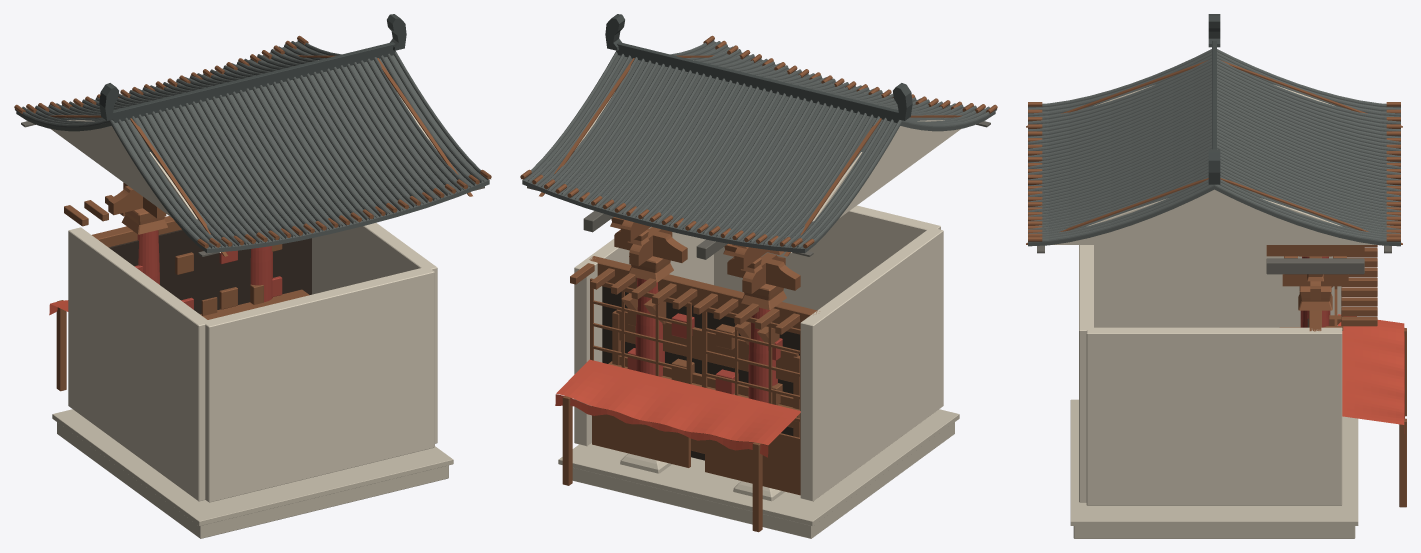
The model's file is shop-dadian.glb.
3 renders of one model, left to right at view 1: azimuth 30°, elevation 25°; view 2: azimuth 150°, elevation 25°; view 3: azimuth 270°, elevation 25°, orthographic. The views are drawn at different scales.
Parts seen in each view (by area): view 1: shop_dadian; view 2: shop_dadian; view 3: shop_dadian.
Boxes of the visible parts, bbox=[...] form: shop_dadian: bbox=[14, 14, 491, 538]; shop_dadian: bbox=[520, 14, 997, 538]; shop_dadian: bbox=[1026, 14, 1406, 538].
Size of the model in its own units: 6.4 by 8.23 by 7.14.
